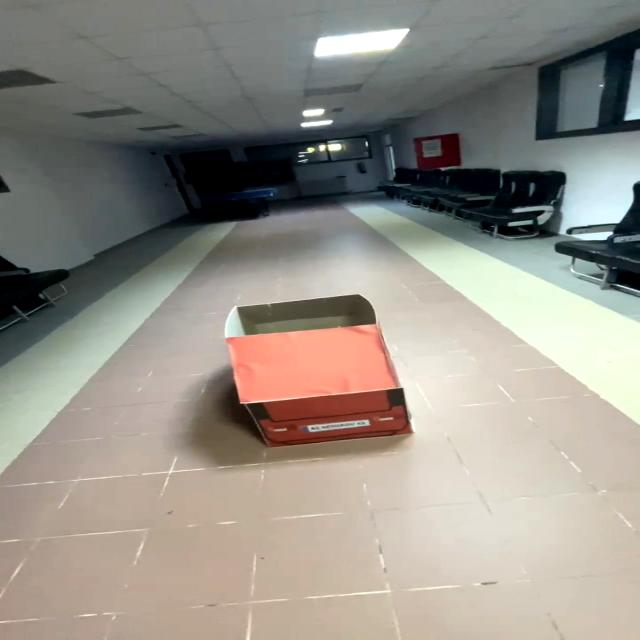red_car: (203, 286, 442, 452)
